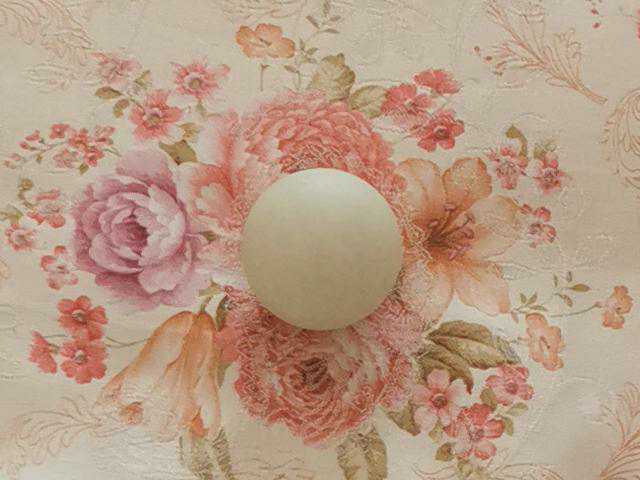ball: (245, 167, 403, 326)
